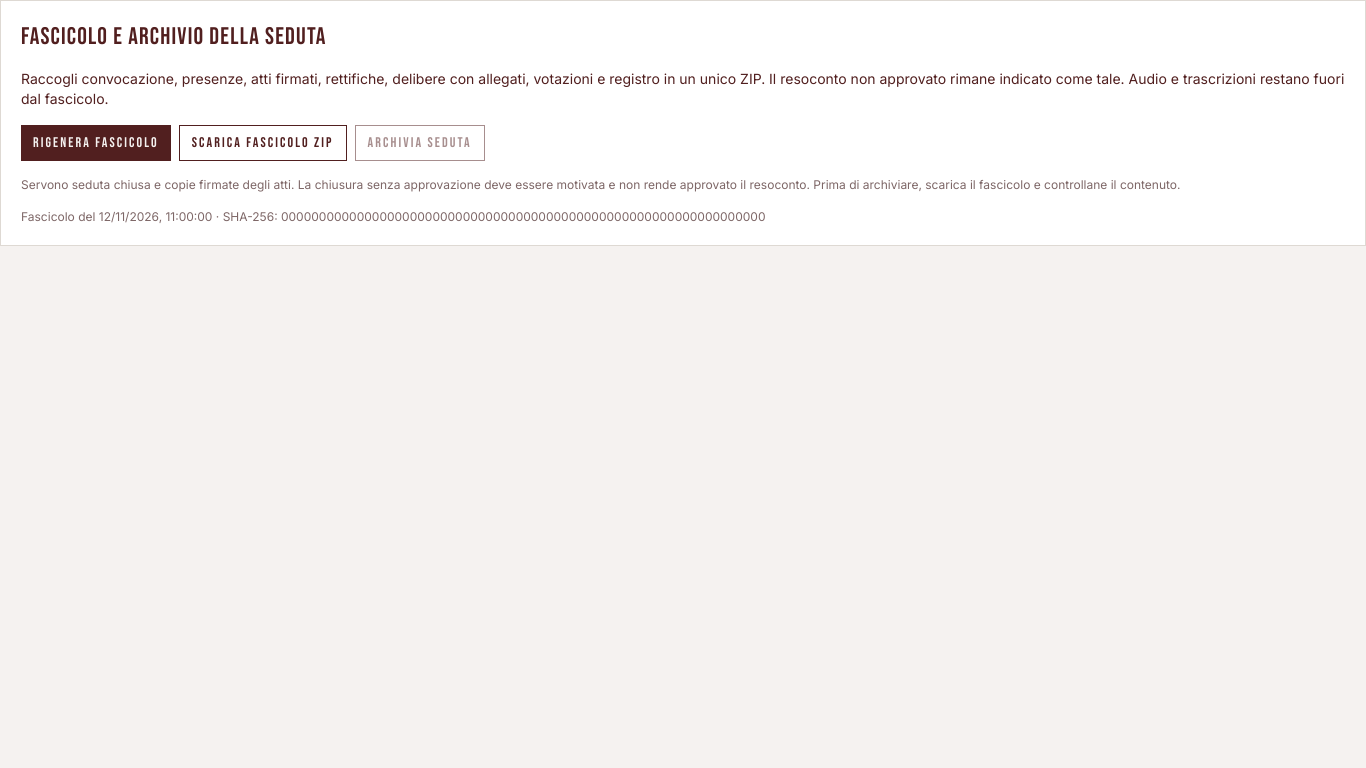
Scenario: Fascicolo controls › requires a successful download and an explicit confirmation before deleting temporary media
This screenshot has width=1366, height=768.
Later steps or results of the test are not shown.
Expected: the button "Archivia seduta" is disabled, [355,125,485,161]
Step 1. Click the button "Scarica fascicolo ZIP" → x=263, y=143, box [179,125,347,161]
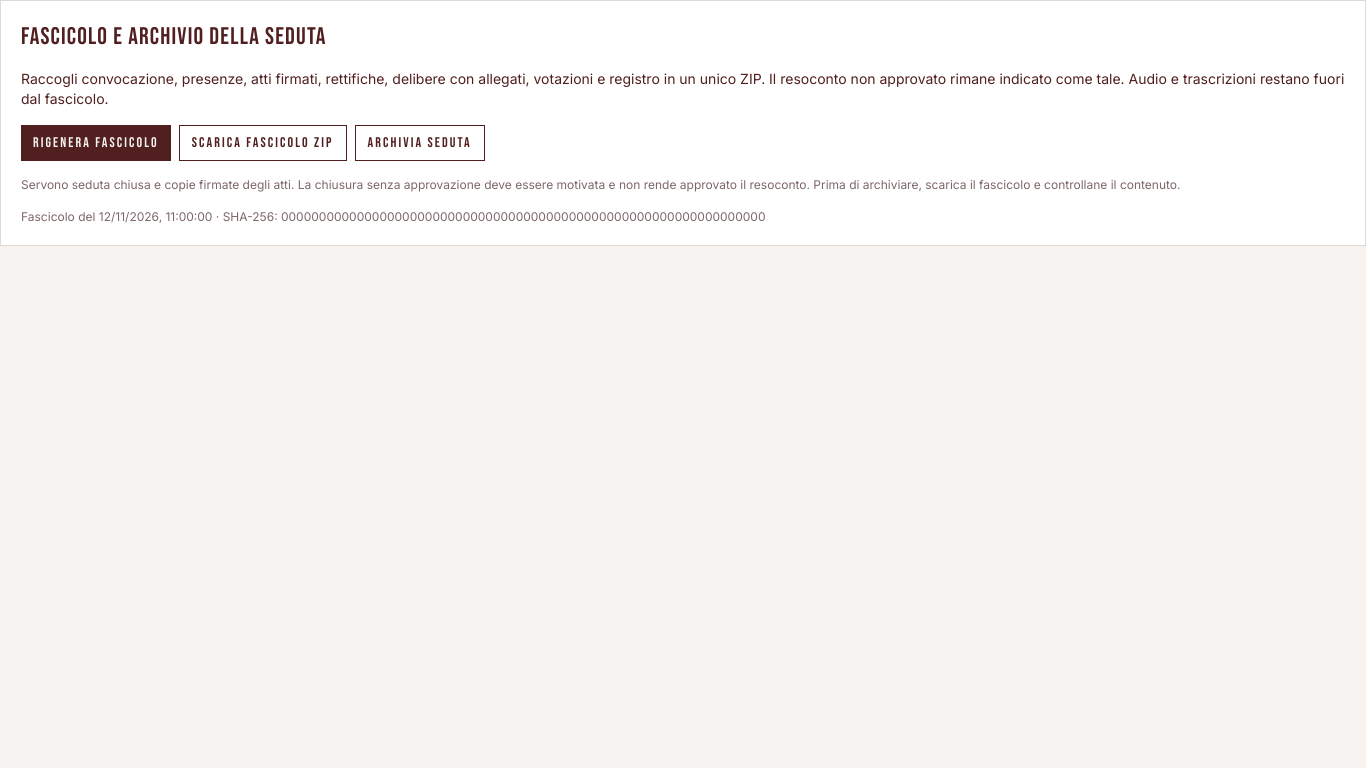
Result: the button "Archivia seduta" is enabled
Step 2. Click the button "Archivia seduta" → x=420, y=143, box [355,125,485,161]
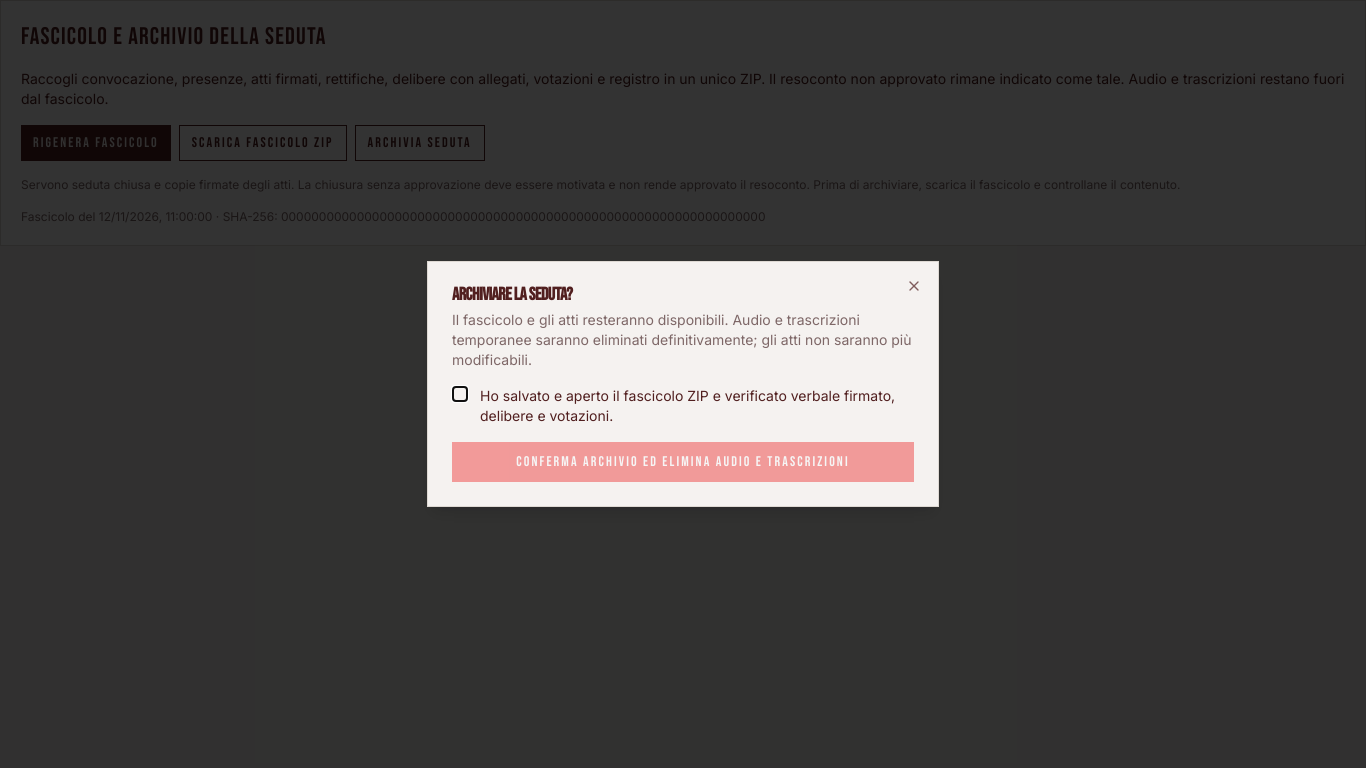
Result: the button "Conferma archivio ed elimina audio e trascrizioni" is disabled at [452,442,914,482]
